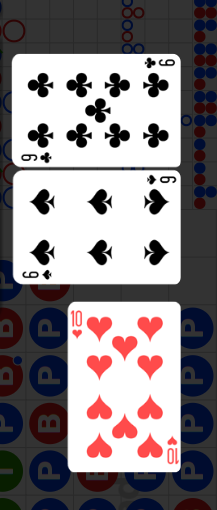10H: (164, 434, 178, 466)
6S: (21, 268, 54, 281)
9C: (142, 57, 176, 71)
